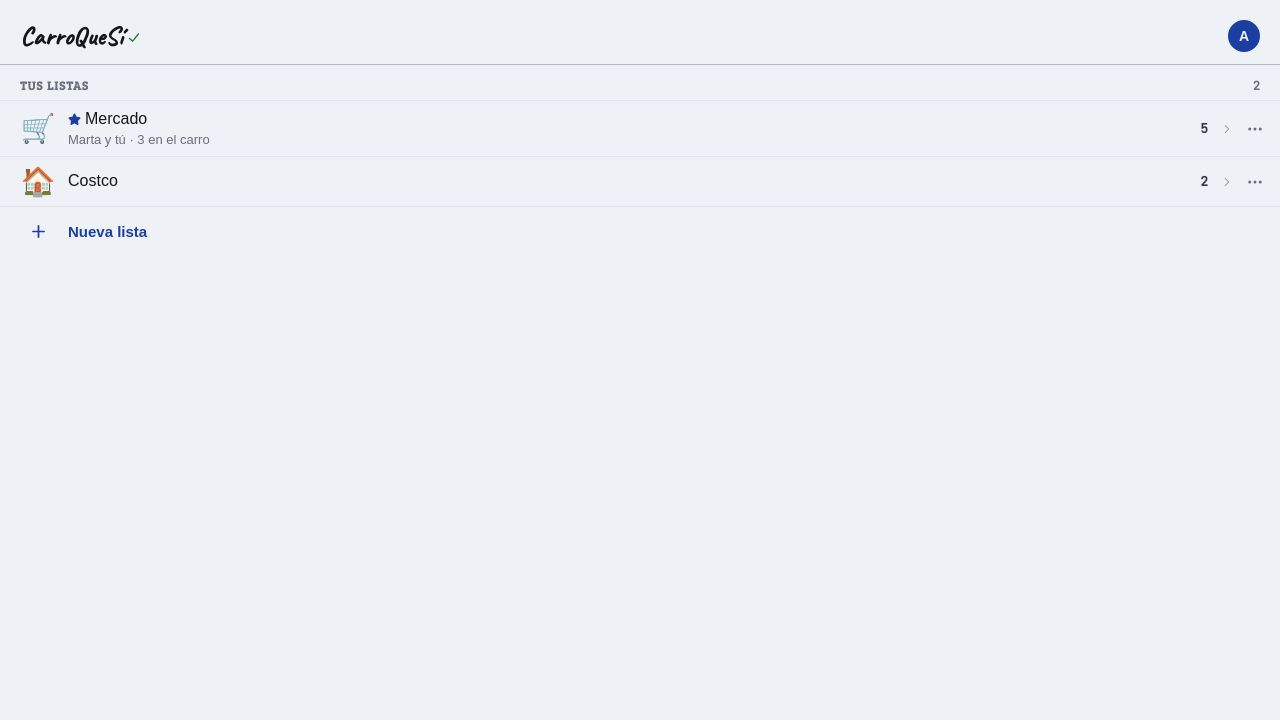
Test: DashboardScreen — list management › tapping ⋯ on a card opens the action sheet for that list
This screenshot has width=1280, height=720.
Expected: the text "Mercado" is shown, [68, 110, 147, 127]
What coordinates should you click on to do the following:
click the 1st button named "opciones"
I would click on:
 (1255, 128)
Its box is [1233, 106, 1277, 150].
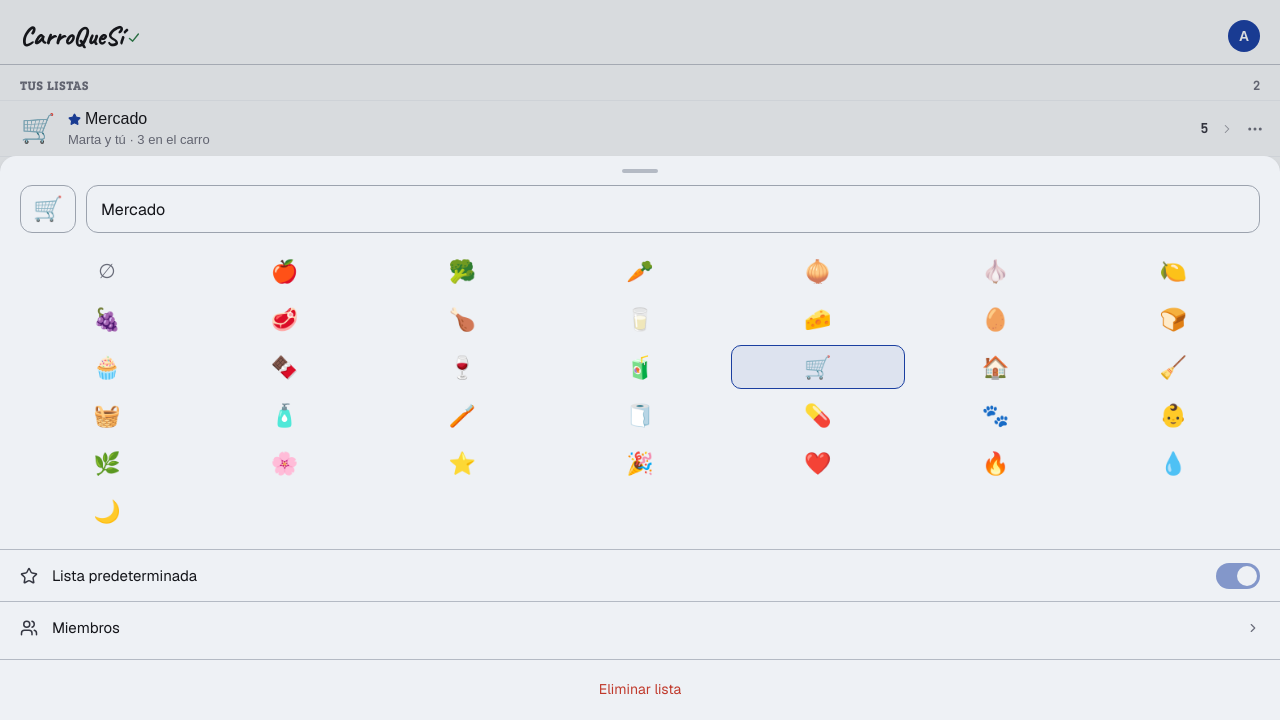
Expected: the field named "Nombre de la lista" is shown, [86, 185, 1260, 233]
